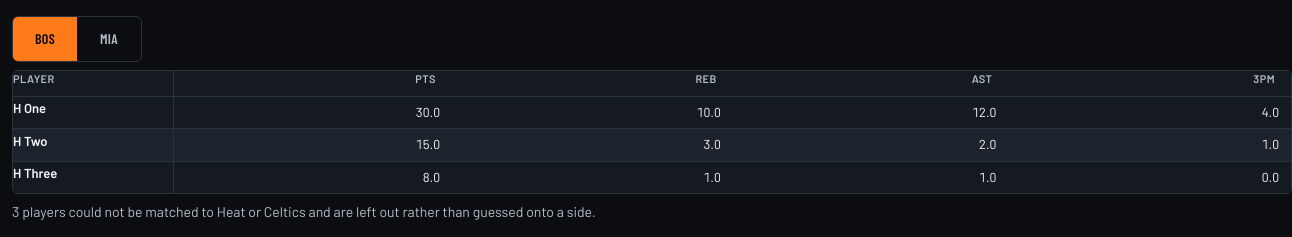
PlayerBoxScore › a team with no players gets a one-line message, not an empty table
Step 1. Click the button "MIA" → (109, 39), box [77,17,141,61]
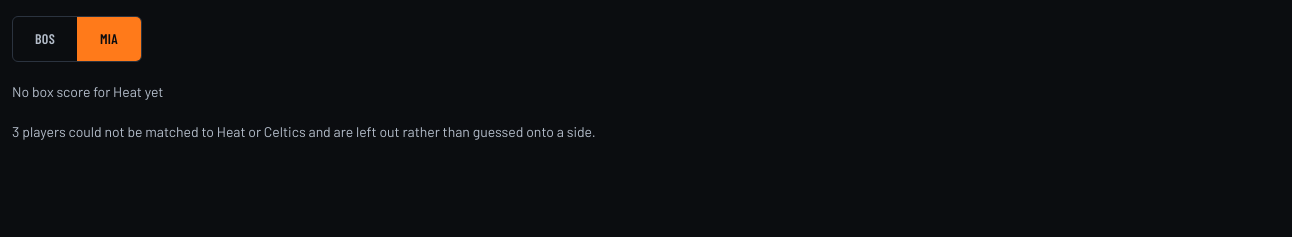
Now the text "No box score for Heat yet" is shown, box [12,83,163,100]
Now the table is gone
